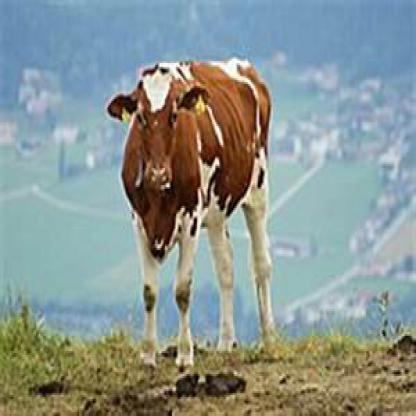cow: (107, 57, 273, 366)
